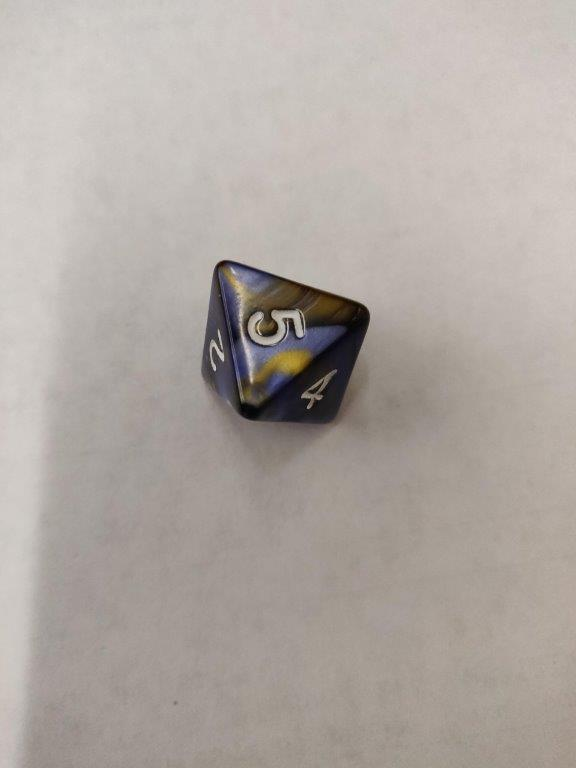d8-5: (198, 261, 373, 428)
